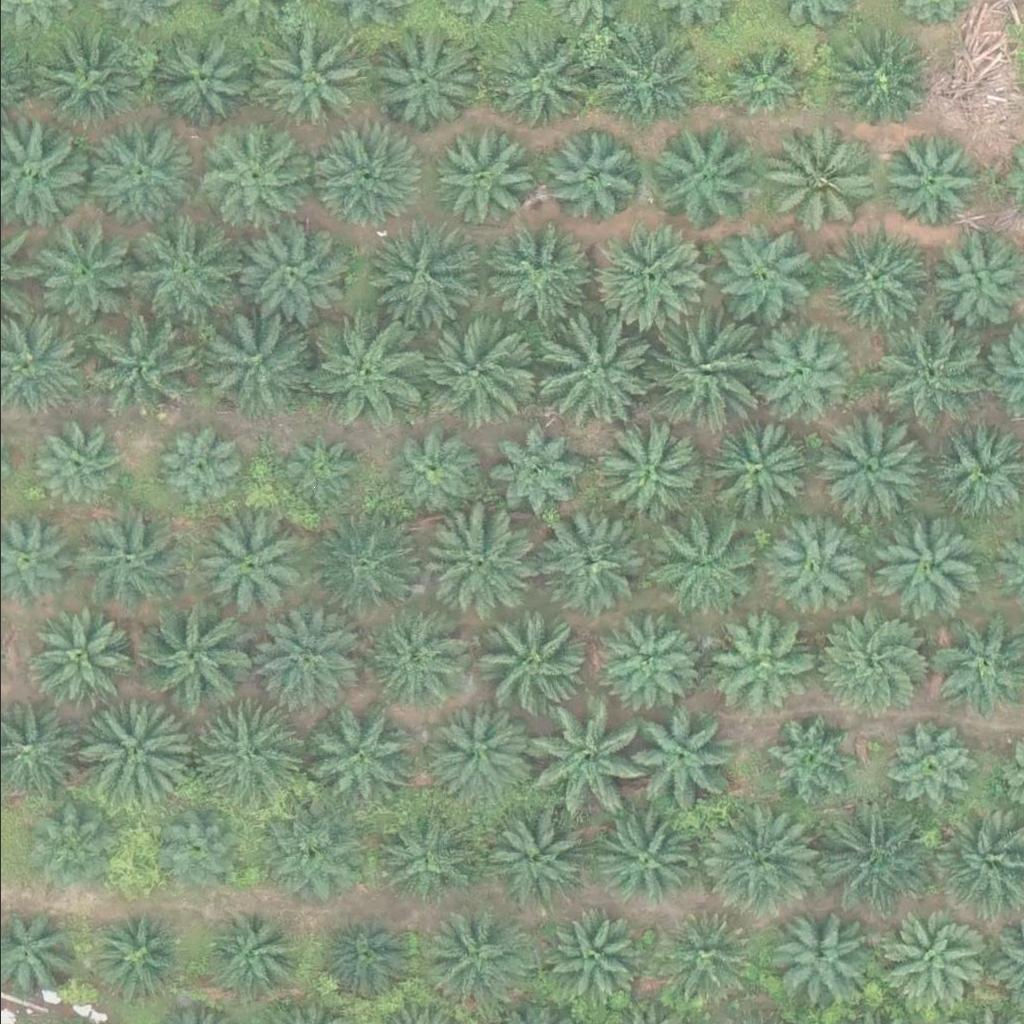Kelapa_Sawit: (525, 503, 639, 616), (368, 221, 482, 334), (420, 696, 533, 809), (303, 700, 416, 813), (187, 693, 300, 806), (473, 606, 586, 719), (643, 311, 756, 424), (414, 320, 527, 433), (233, 214, 346, 327), (479, 221, 592, 334), (642, 118, 755, 231), (307, 120, 420, 233), (245, 26, 358, 139), (487, 24, 600, 137), (587, 25, 700, 138), (822, 601, 935, 714), (865, 508, 978, 621), (821, 219, 934, 332), (582, 801, 696, 913), (20, 610, 134, 722), (308, 315, 422, 427), (30, 24, 144, 136), (820, 799, 934, 911), (417, 899, 530, 1011), (698, 800, 811, 912), (473, 805, 586, 917), (524, 698, 637, 810), (74, 700, 187, 812), (142, 601, 255, 713), (251, 597, 364, 709), (644, 510, 757, 622), (412, 511, 525, 623), (310, 510, 423, 622), (191, 511, 304, 623), (70, 500, 183, 612), (591, 416, 704, 528), (531, 317, 644, 429), (199, 306, 312, 418), (89, 311, 202, 423), (34, 213, 147, 325), (125, 212, 238, 324), (595, 220, 708, 332), (78, 119, 191, 231), (816, 414, 929, 526), (871, 318, 984, 430), (758, 128, 871, 240), (651, 910, 752, 1010), (254, 800, 355, 900), (358, 612, 459, 712), (595, 618, 696, 718), (481, 423, 582, 523), (536, 123, 637, 223), (432, 131, 533, 231), (195, 127, 296, 227), (151, 23, 252, 123), (368, 34, 469, 134), (763, 708, 864, 808), (713, 607, 814, 707), (764, 516, 865, 616), (702, 413, 803, 513), (747, 322, 848, 422), (712, 222, 813, 322), (878, 134, 979, 234), (537, 905, 637, 1005), (369, 810, 469, 910), (625, 701, 725, 801), (874, 913, 974, 1013), (768, 907, 868, 1007), (883, 721, 983, 821), (825, 28, 925, 128), (323, 915, 411, 1003), (86, 912, 174, 1000), (724, 37, 812, 125), (206, 907, 294, 994), (151, 808, 239, 895), (35, 804, 123, 891), (33, 424, 121, 511), (157, 424, 245, 511), (390, 435, 478, 522), (279, 433, 355, 508)
